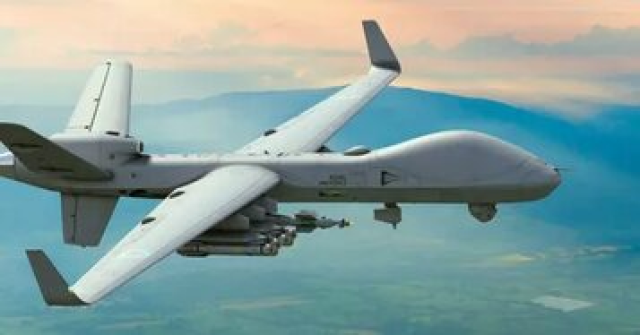military drone: (0, 19, 575, 306)
